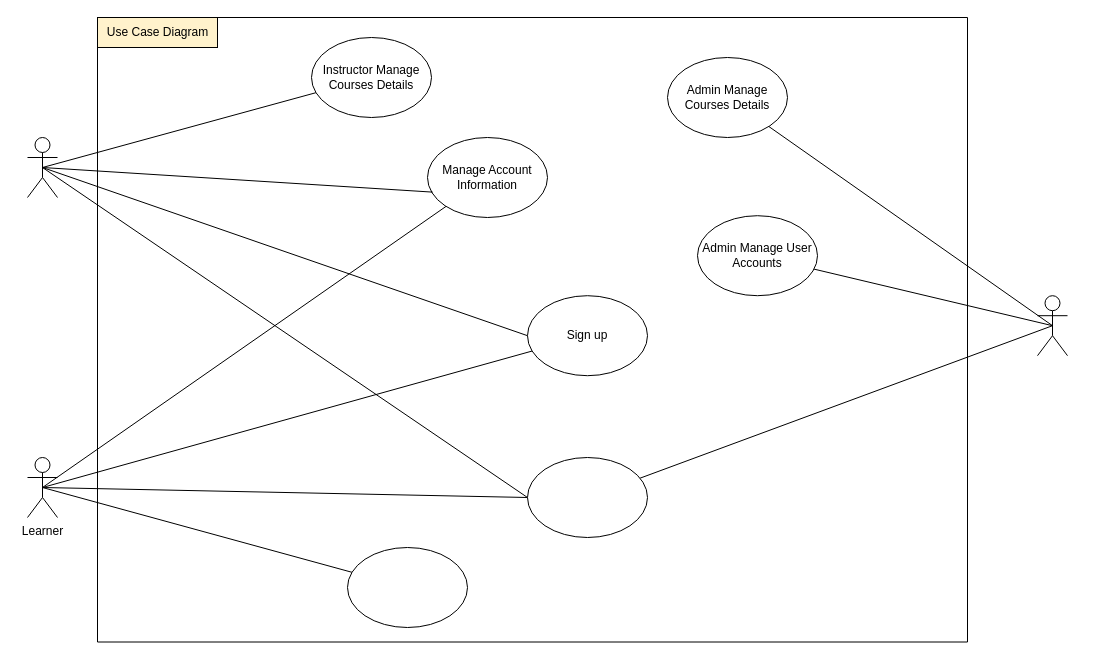
The diagram is 1105 pixels wide and 660 high, and some of its shapes have lost their labels. Each missing label, with the box of its shape:
Administrator: (1036, 295, 1068, 356)
Enroll course: (346, 546, 468, 628)
Instructor: (26, 136, 58, 198)
Login: (526, 456, 648, 538)
